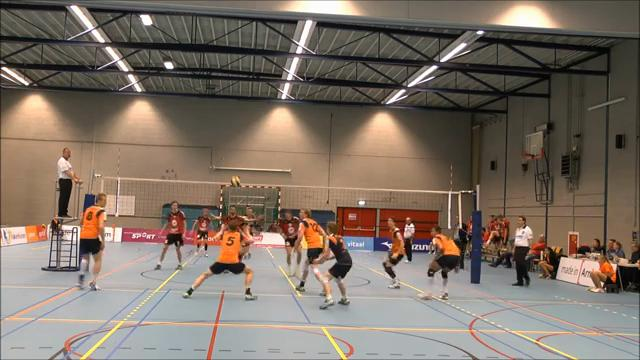Player: (315, 223, 352, 308), (419, 225, 459, 299), (76, 193, 106, 290), (294, 209, 325, 291), (155, 201, 185, 269), (382, 217, 404, 288), (279, 210, 301, 275), (217, 206, 251, 238), (192, 208, 212, 256), (244, 206, 263, 235)
Receive: (178, 217, 260, 304)
ball: (229, 175, 243, 190)
